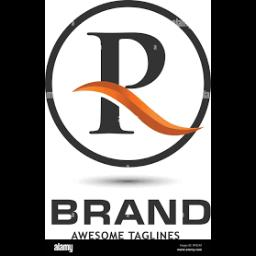a: (114, 196, 146, 228)
b: (48, 198, 80, 228)
d: (181, 198, 211, 226)
n: (147, 197, 179, 227)
r: (82, 194, 112, 226)
